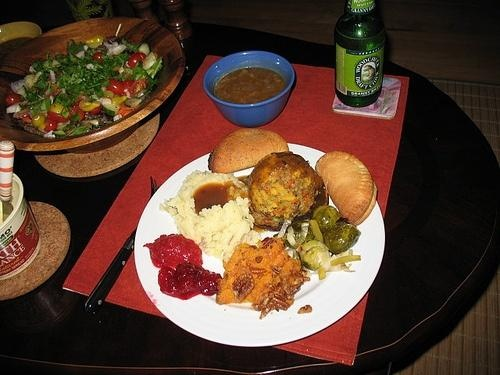bottle: (334, 1, 386, 110)
